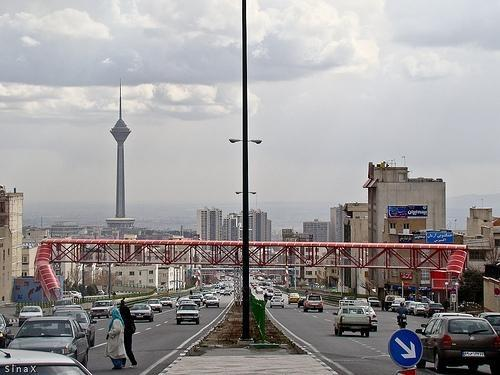car: (415, 316, 500, 375), (6, 316, 90, 368), (0, 349, 92, 375), (174, 302, 200, 326), (130, 304, 154, 322), (424, 302, 446, 318), (270, 296, 285, 310), (148, 300, 162, 314), (204, 296, 220, 308), (160, 296, 173, 308), (224, 290, 232, 296)
motorcycle: (400, 314, 408, 329)
truck: (331, 300, 372, 338), (303, 295, 323, 312)
